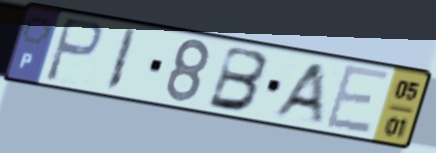8: (163, 38, 211, 105)
A: (267, 62, 328, 125)
B: (204, 43, 272, 114)
E: (322, 62, 393, 137)
I: (101, 25, 140, 95)
P: (41, 14, 106, 85)
